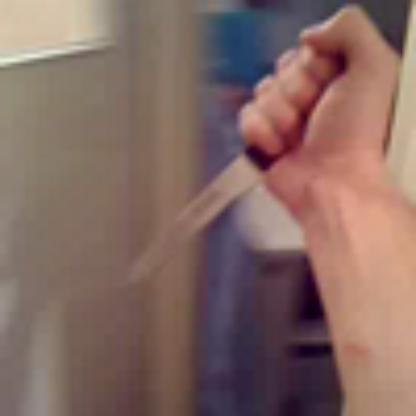knives: (108, 0, 383, 299)
